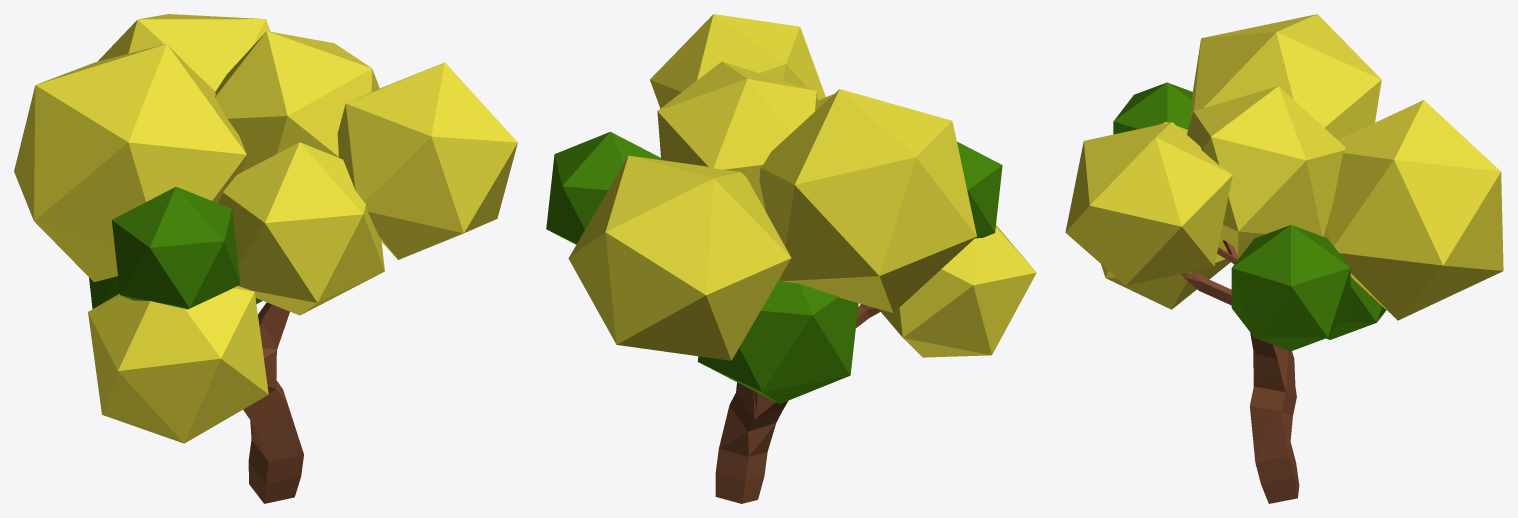
File: Tree1.5.fbx
The picture shows the model from 3 angles, left to right: view 1: azimuth 30°, elevation 25°; view 2: azimuth 150°, elevation 25°; view 3: azimuth 270°, elevation 25°; orthographic projection. The views are drawn at different scales.
Visible parts, largest first — view 1: Trunck Tree1.5; view 2: Trunck Tree1.5; view 3: Trunck Tree1.5.
Part boxes in pixels (left/top/right/bottom): Trunck Tree1.5: left=14, top=14, right=517, bottom=503; Trunck Tree1.5: left=546, top=14, right=1036, bottom=503; Trunck Tree1.5: left=1065, top=14, right=1503, bottom=503.
Bounding box in the file's own units: 1497 × 1528 × 1447.
